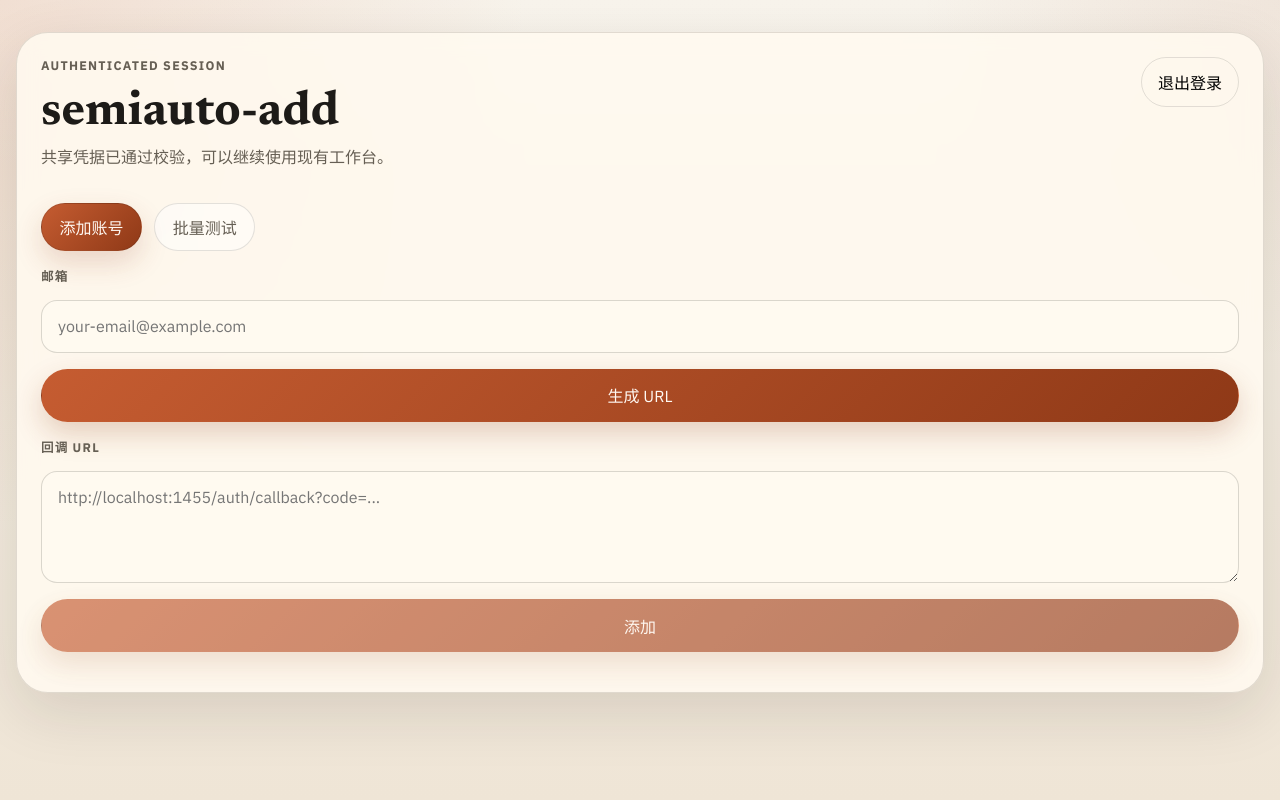
it: SemiAutoWorkbench batch-test tab › loads accounts and enables batch testing
Click the tab "批量测试": (205, 227) x1=154 y1=203 x2=255 y2=251
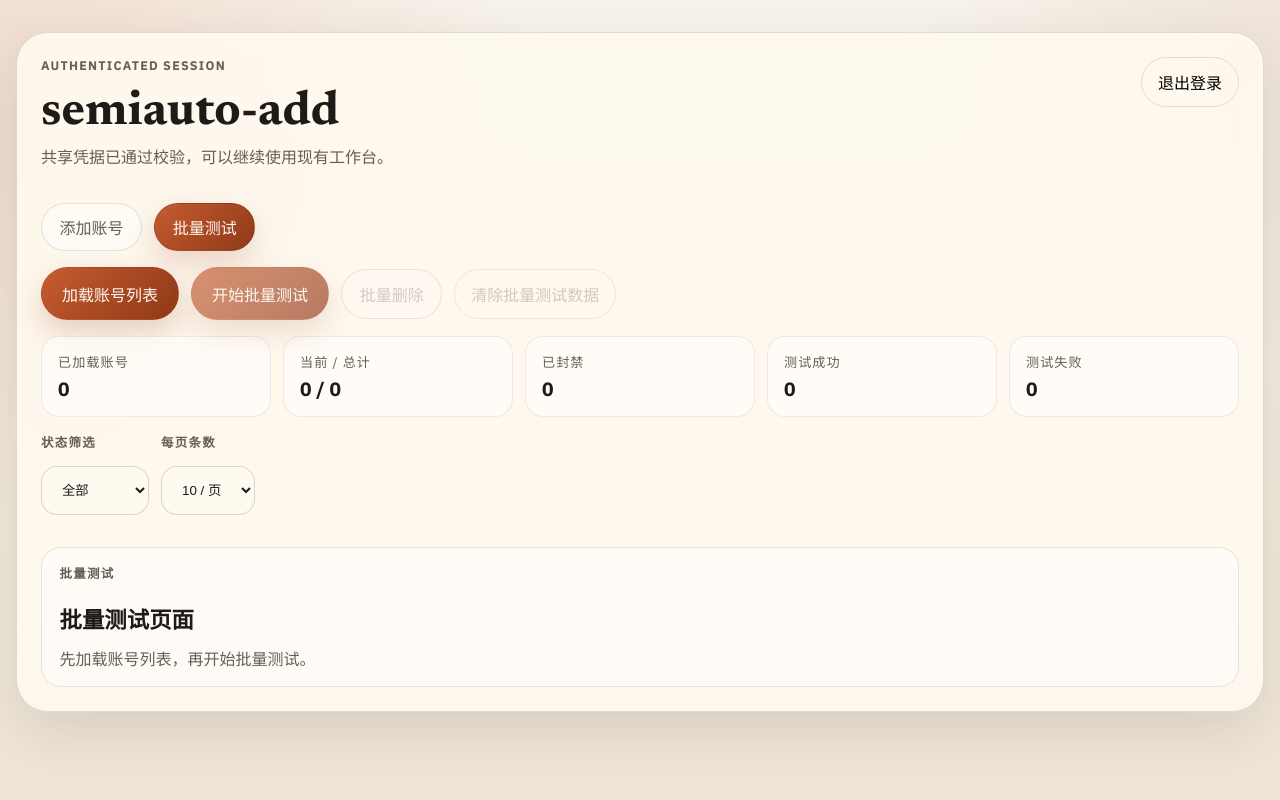
Click the button "加载账号列表": (110, 294) x1=41 y1=267 x2=179 y2=320
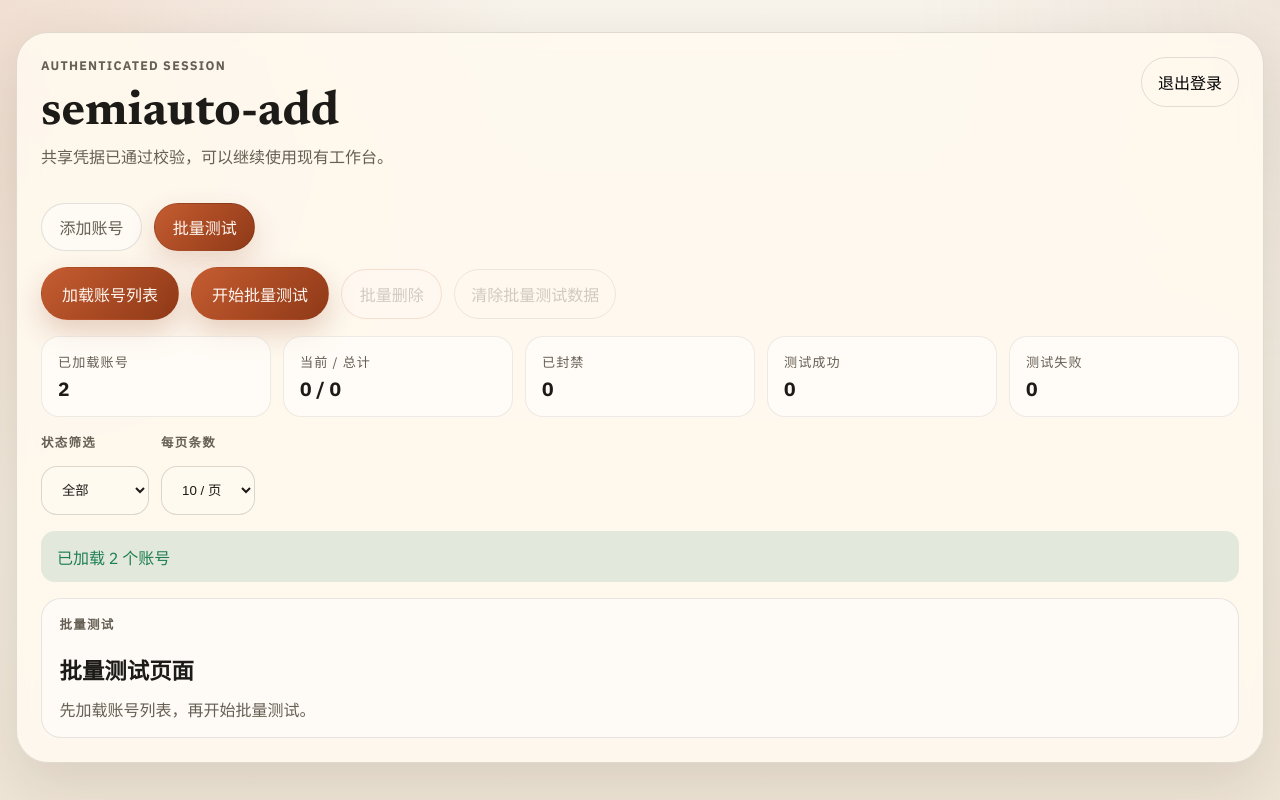
Result: the text "已加载 2 个账号" is shown at x1=41 y1=531 x2=1239 y2=582
Result: the button "开始批量测试" is enabled at x1=191 y1=267 x2=329 y2=320
